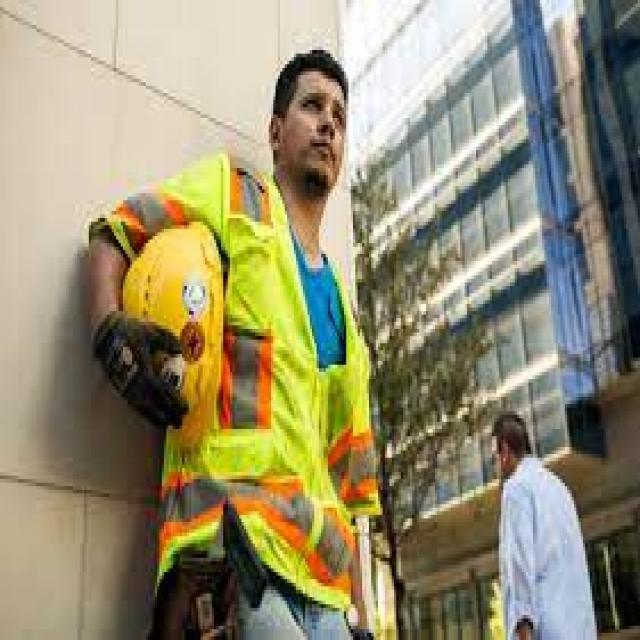reflective_jacket: (93, 145, 378, 633)
safety_helmet: (113, 211, 237, 372)
